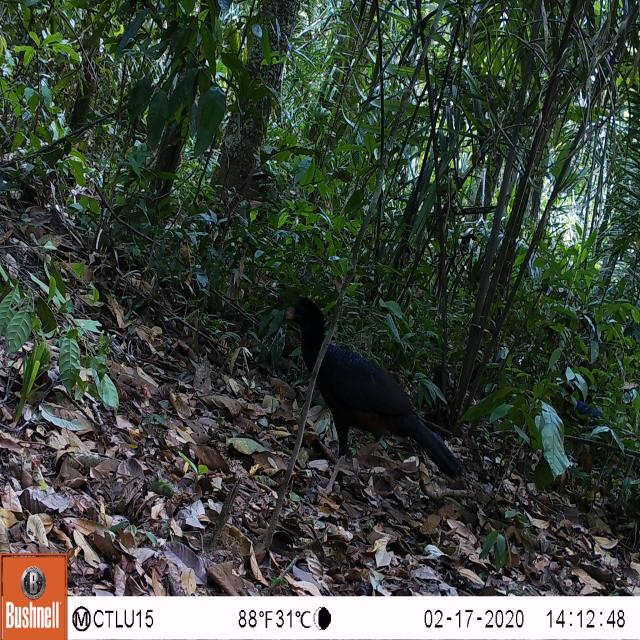Salvins Curassow: (272, 287, 466, 518)
